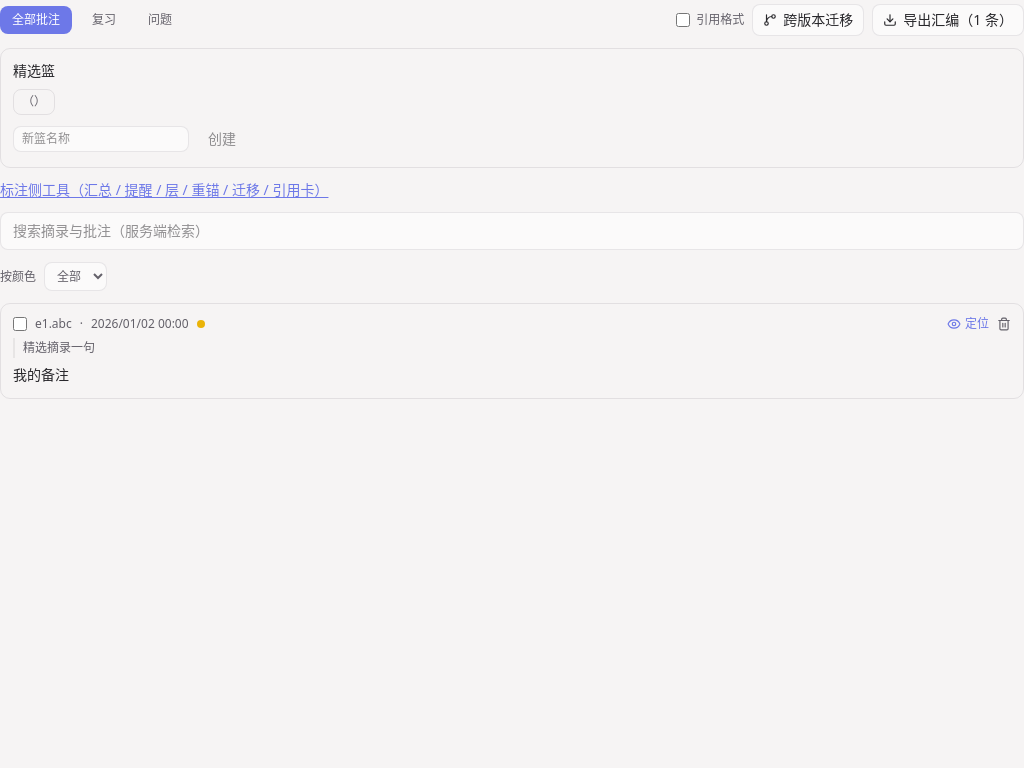
N078 批注跨版本迁移 › 预览 → 勾选候选 → 应用只含勾选项
expect the text "精选摘录一句" is shown: met, box [13,338,1011,358]
Click the button "跨版本迁移".
click(808, 20)  # box [752,4,864,36]
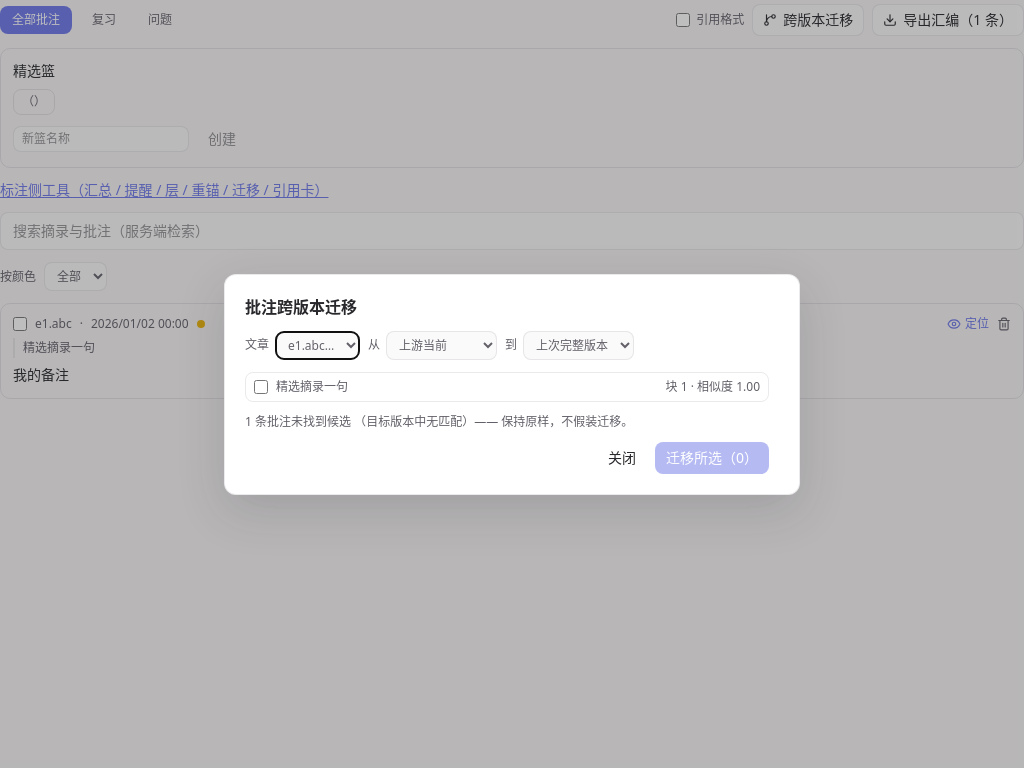
Click the checkbox named "确认迁移批注 a1".
click(261, 386)  # box [254,380,268,394]
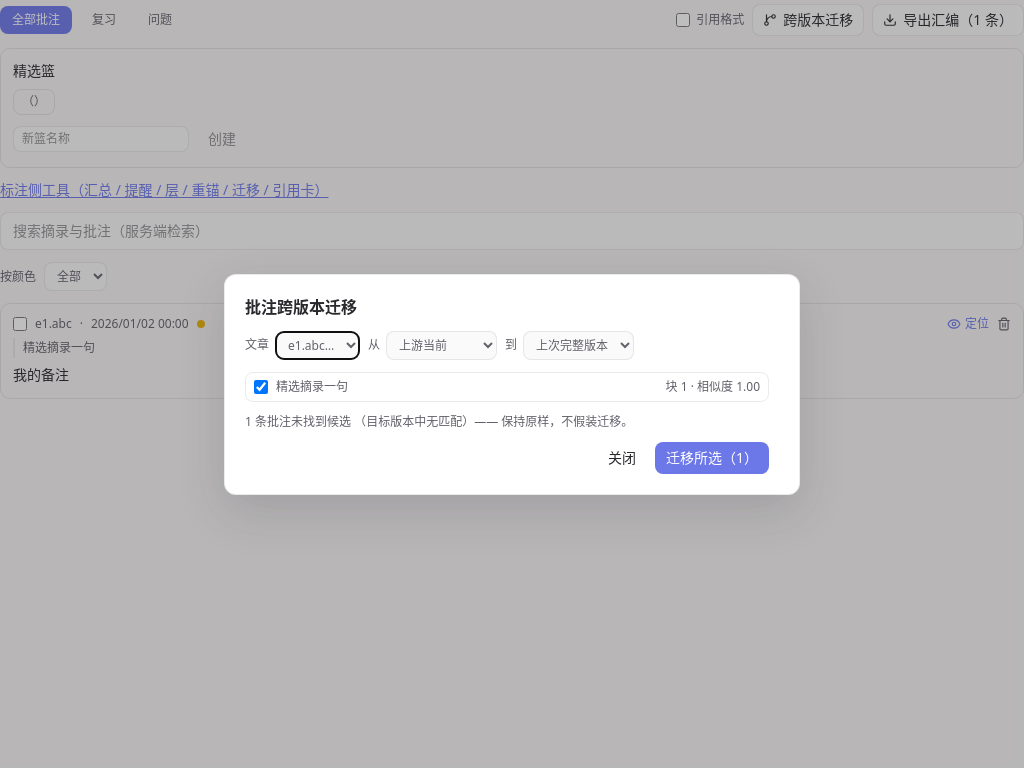
Click the button "迁移所选（1）".
click(712, 458)  # box [655,442,769,474]
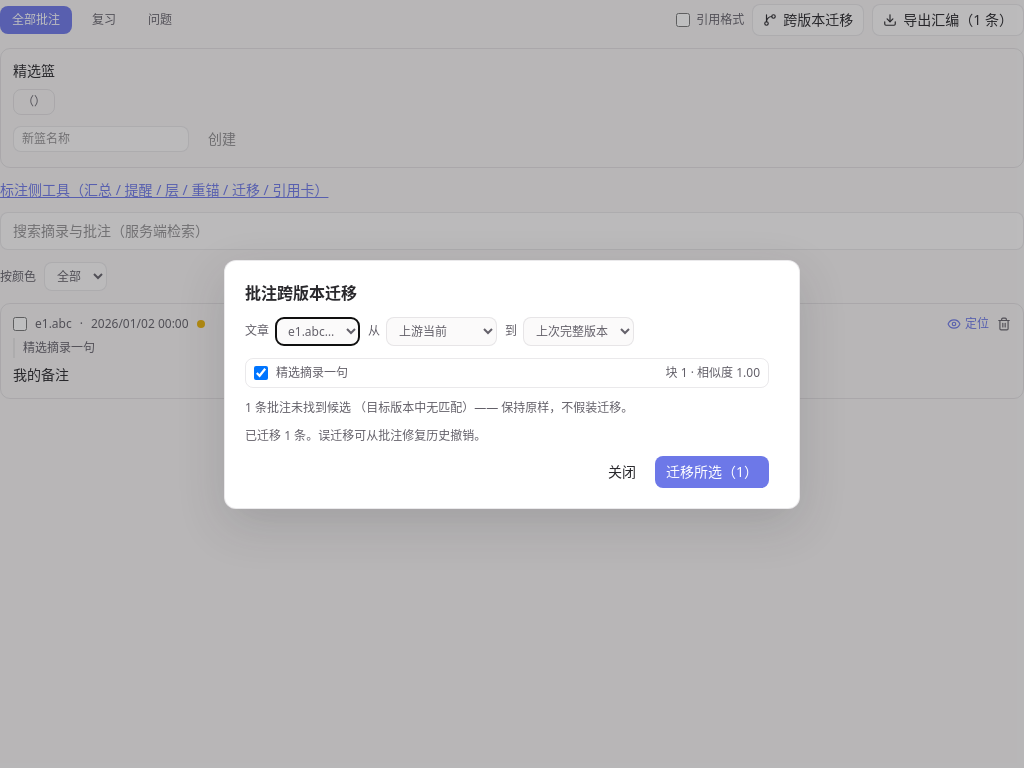
expect the text "已迁移 1 条。误迁移可从批注修复历史撤销。" is shown: met, box [245,426,486,444]
